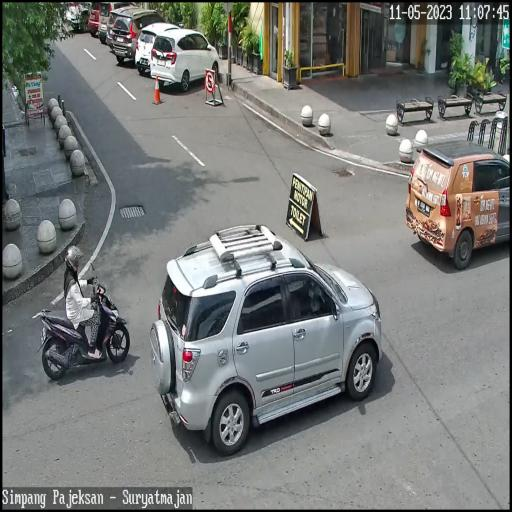mobil: (147, 218, 384, 456), (404, 137, 512, 273), (150, 23, 220, 99), (110, 9, 167, 73), (135, 14, 181, 93)
motor: (36, 280, 131, 389)
